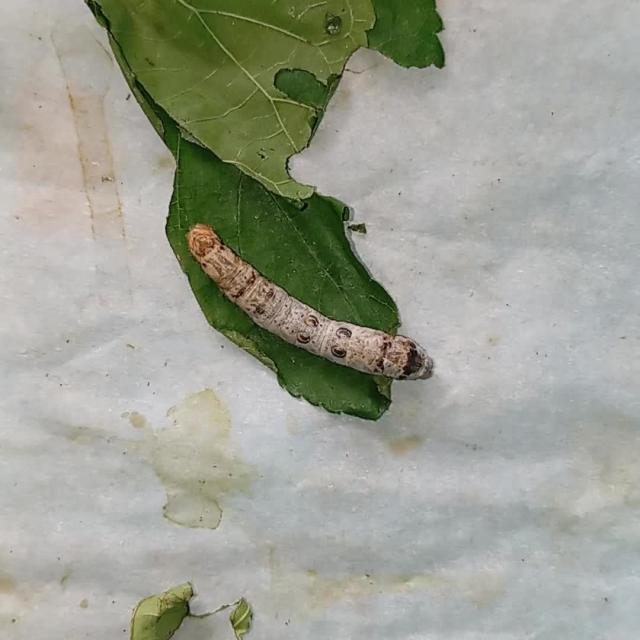Grasserie: (166, 203, 455, 416)
